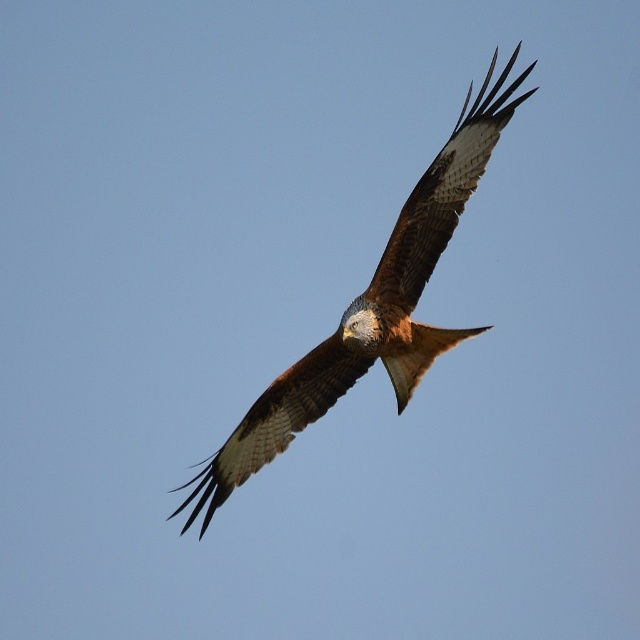Eagle: (165, 40, 540, 542)
